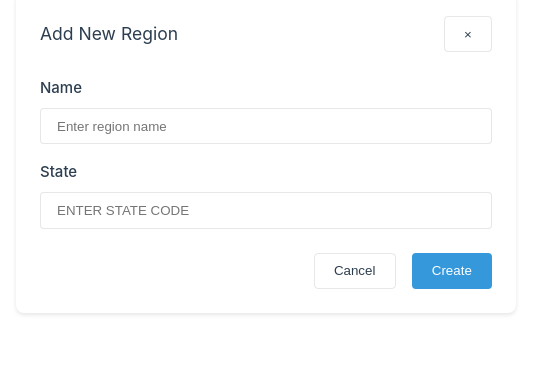
RegionForm › Error Handling › displays error message when creation fails
This screenshot has width=533, height=388.
Type "Test Region" into the field with id "name" at (266, 126), box [40,108,492,144]
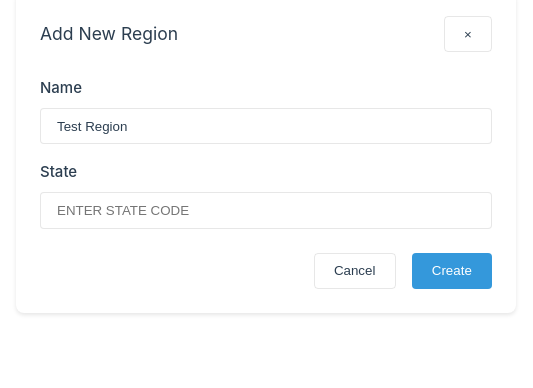
Type "TS" into the field with id "state" at (266, 210), box [40,192,492,229]
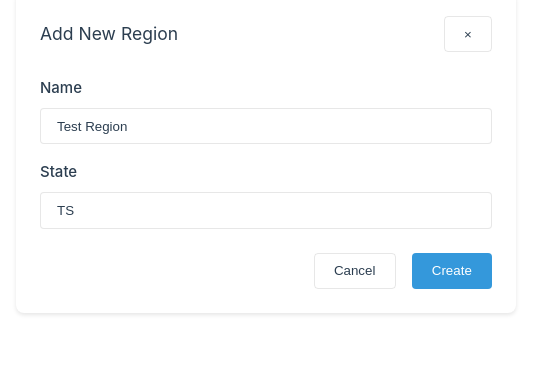
Submit the form, box [40,76,492,289]
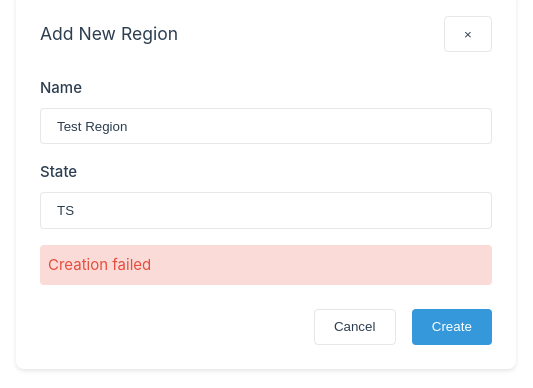
Now the text "Creation failed" is shown, box [40,245,492,285]
Now the text with class "error-message" reads "Creation failed", box [48,255,151,274]
